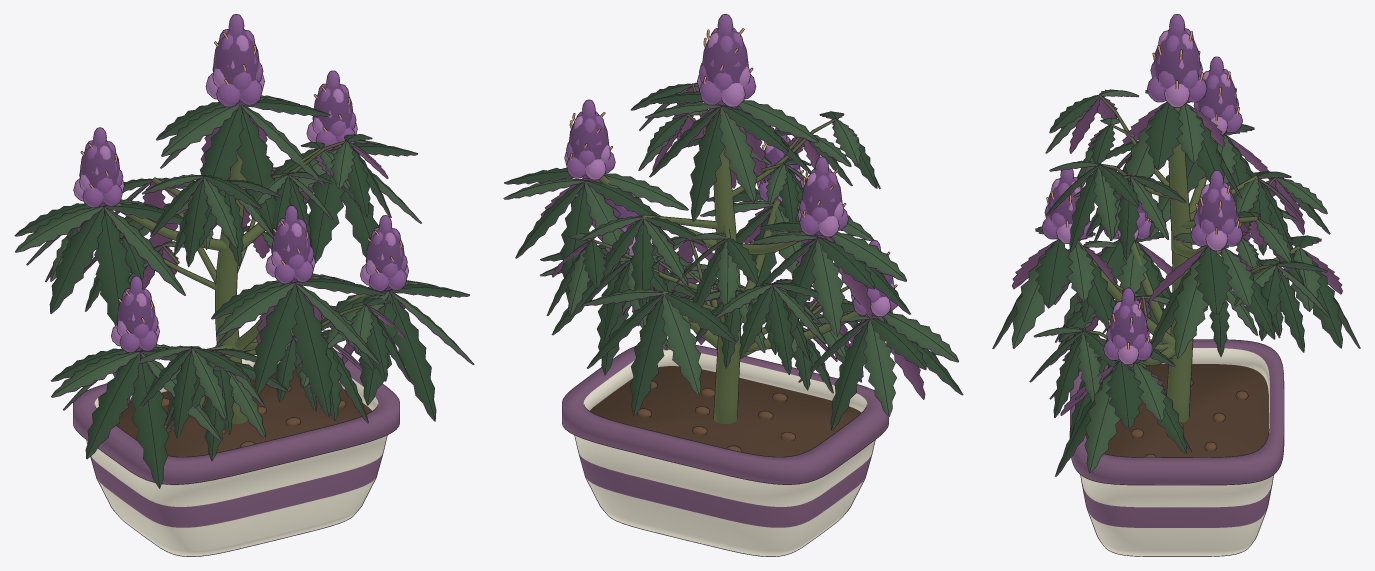
The model's file is cannabis_pourpre_toon.glb.
The picture shows the model from 3 angles, left to right: view 1: azimuth 30°, elevation 25°; view 2: azimuth 150°, elevation 25°; view 3: azimuth 270°, elevation 25°; orthographic projection.
Visible parts, largest first — view 1: cannabis_pourpre_Geometry; view 2: cannabis_pourpre_Geometry; view 3: cannabis_pourpre_Geometry.
Part boxes in pixels (bbox=[...]): cannabis_pourpre_Geometry: bbox=[14, 14, 474, 556]; cannabis_pourpre_Geometry: bbox=[503, 14, 963, 556]; cannabis_pourpre_Geometry: bbox=[992, 14, 1360, 556].
Size of the model in its own units: 0.7909 by 0.8978 by 0.6036.
